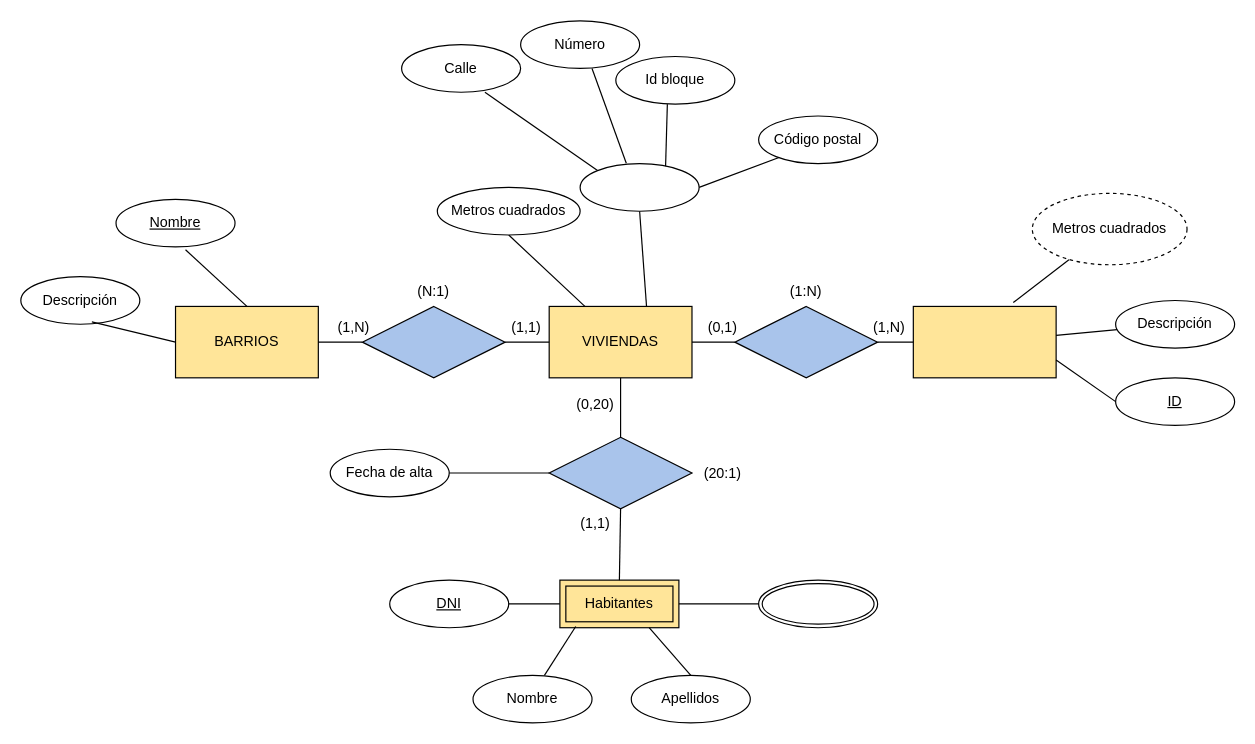
Image size: 1255x744. Some labels were removed from this diagram. The shapes that lost their labels are listed below. From the top down, each one's centre as x and y in pixels, then its label:
point (639, 186): Dirección
point (433, 341): Pertenecer
point (806, 341): Formar
point (984, 341): BLOQUE
point (620, 472): Empadronar
point (817, 603): Contacto
